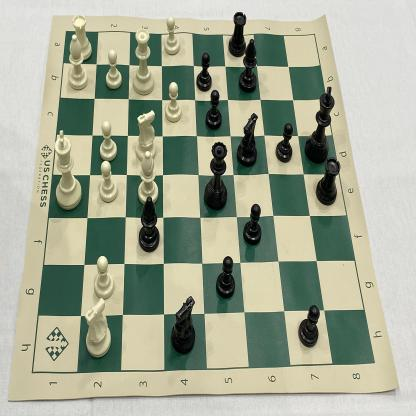black-bishop: (130, 193, 162, 254), (238, 35, 260, 97)
black-king: (304, 80, 337, 168)
black-pawn: (295, 302, 322, 352), (213, 251, 238, 303), (240, 200, 264, 248), (193, 47, 215, 94), (204, 84, 224, 133), (274, 120, 295, 166)
black-queen: (202, 139, 231, 212)
black-rook: (313, 154, 343, 210), (226, 9, 249, 61)
white-bishop: (135, 148, 162, 209), (64, 32, 90, 93)
white-king: (49, 125, 87, 213)
white-knight: (82, 297, 117, 361), (134, 106, 159, 161)
white-pawn: (89, 251, 116, 301), (96, 159, 121, 205), (97, 115, 120, 164), (162, 78, 184, 125), (102, 46, 124, 92), (162, 15, 182, 58)
white-queen: (129, 26, 158, 98)
white-rook: (70, 10, 96, 63)
